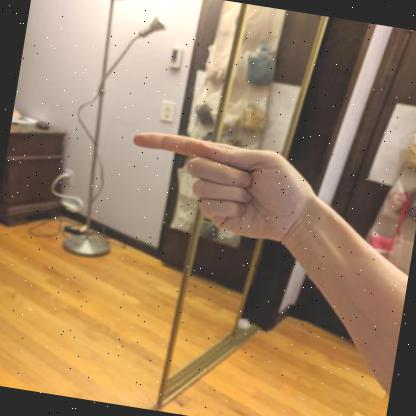G: (133, 132, 308, 250)
